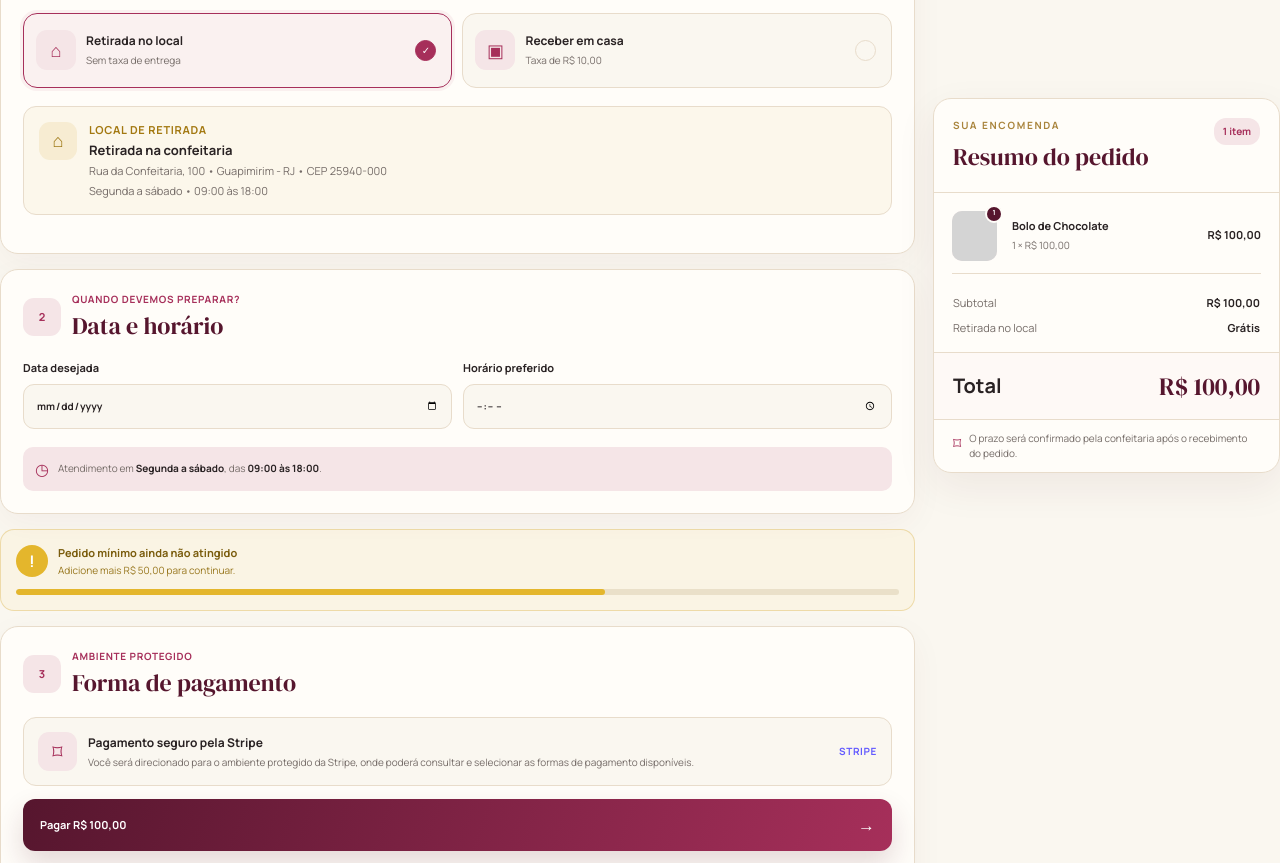
Payment - validações › bloqueia pedido abaixo do valor mínimo
The width and height of the screenshot is (1280, 863).
(page scrolled)
Click the button "Pagar R$ 100,00 →" at x=83, y=824, box [23, 799, 892, 851]
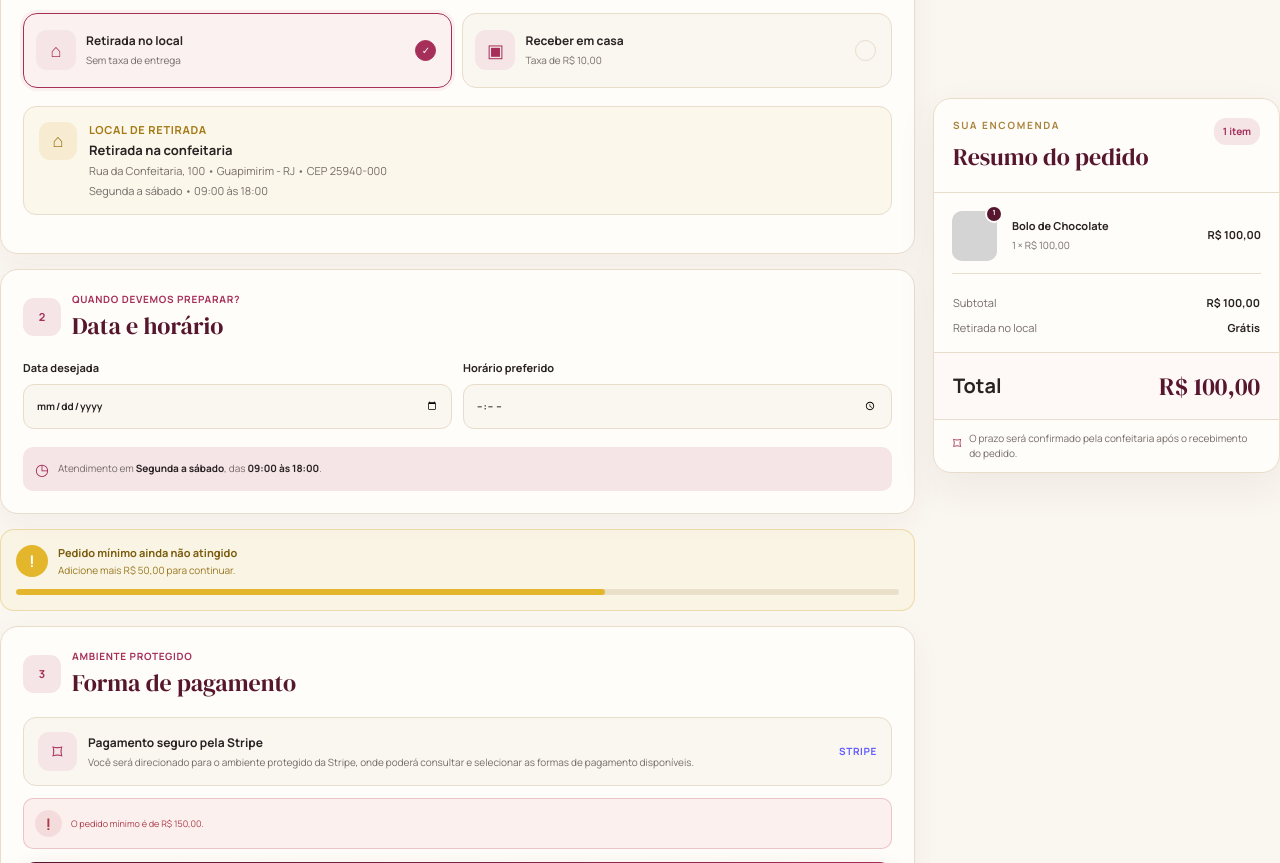
Expected: the message shows "O pedido mínimo é de", [71, 817, 204, 830]
